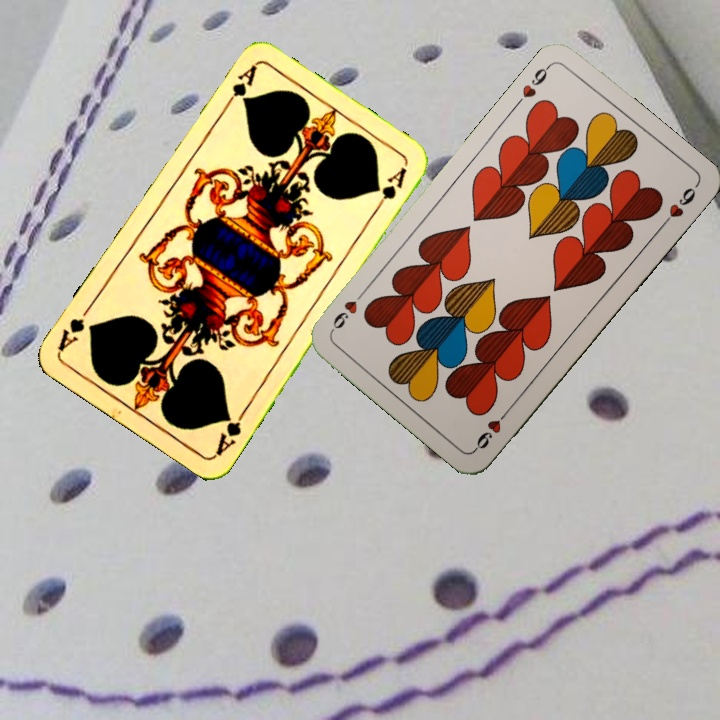GA: (219, 61, 259, 113), (212, 404, 250, 458)
H9: (470, 403, 513, 453), (511, 60, 554, 109)
